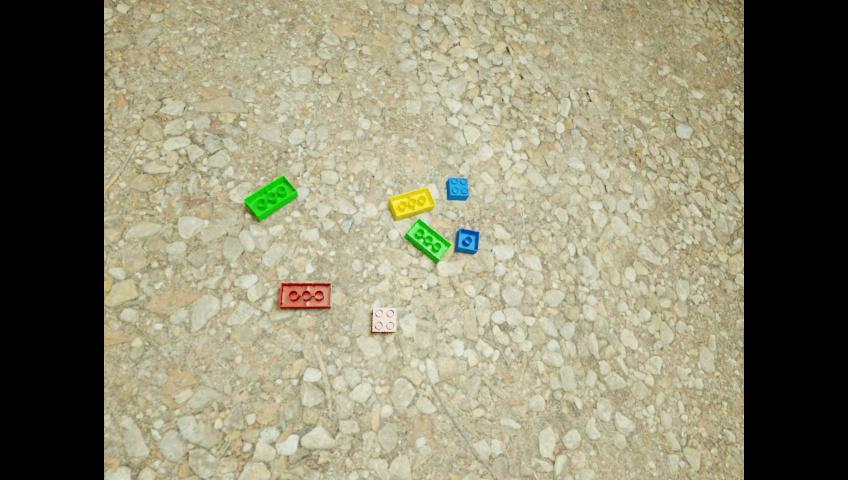2x2_blue: (454, 227, 478, 254), (445, 176, 468, 200)
2x2_red: (371, 307, 395, 332)
4x2_green: (243, 174, 297, 220), (404, 217, 451, 262)
4x2_red: (279, 282, 330, 308)
4x2_yellow: (388, 186, 434, 220)
